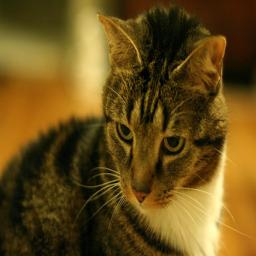catnose: (131, 186, 151, 203)
